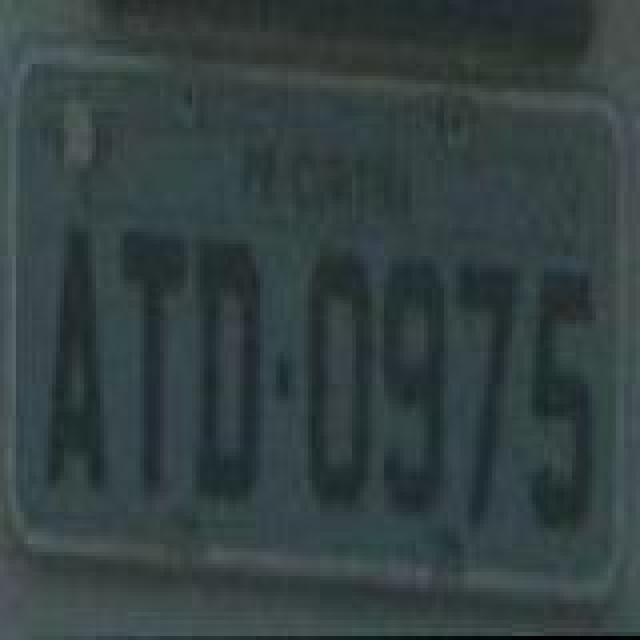5: (526, 262, 594, 530)
7: (456, 260, 520, 528)
9: (382, 252, 450, 520)
A: (44, 230, 108, 498)
D: (192, 232, 264, 508)
O: (302, 248, 370, 508)
T: (118, 230, 186, 498)
